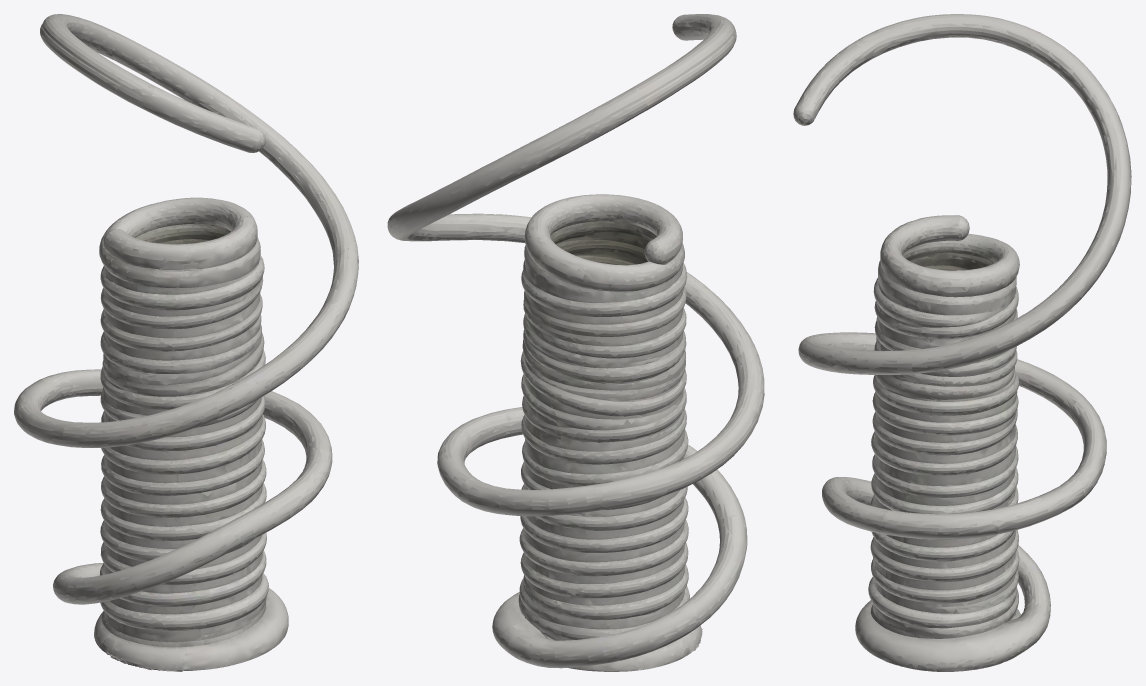
File: 03_5_gj_vase3-opt-v15.glb
3 renders of one model, left to right at view 1: azimuth 30°, elevation 25°; view 2: azimuth 150°, elevation 25°; view 3: azimuth 270°, elevation 25°, orthographic. The views are drawn at different scales.
Visible parts, largest first — view 1: tripo_node_57cfec73-de94-4360-878a-0543cf592ae6.002; view 2: tripo_node_57cfec73-de94-4360-878a-0543cf592ae6.002; view 3: tripo_node_57cfec73-de94-4360-878a-0543cf592ae6.002.
Part boxes in pixels (x1,y1,x2,y2): tripo_node_57cfec73-de94-4360-878a-0543cf592ae6.002: (14,14,358,671); tripo_node_57cfec73-de94-4360-878a-0543cf592ae6.002: (387,14,764,671); tripo_node_57cfec73-de94-4360-878a-0543cf592ae6.002: (793,14,1131,671).
Bounding box in the file's own units: 0.2 × 0.3721 × 0.2.
Materials: 1 (1 with a texture image).
